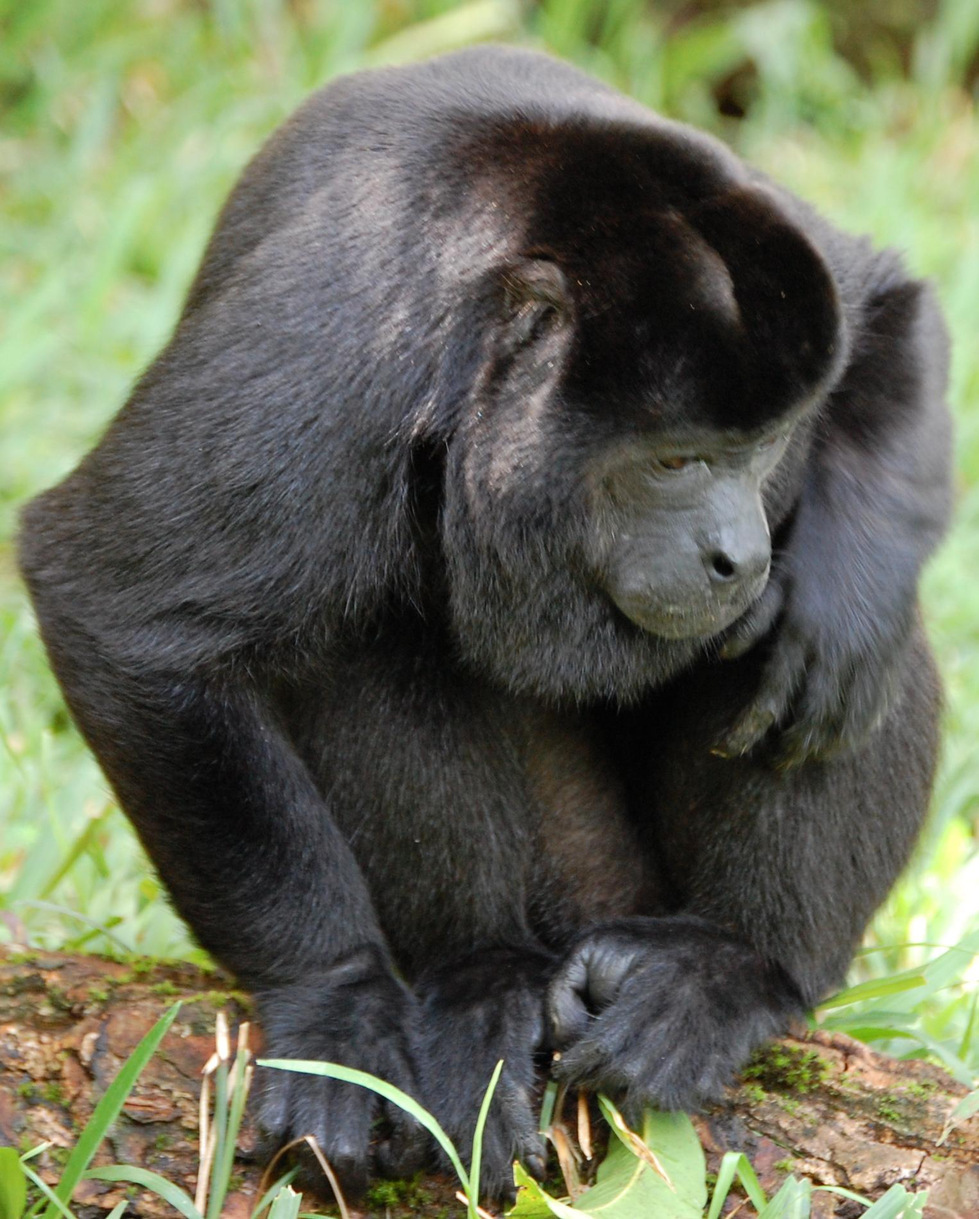monkey: (19, 74, 958, 1216)
